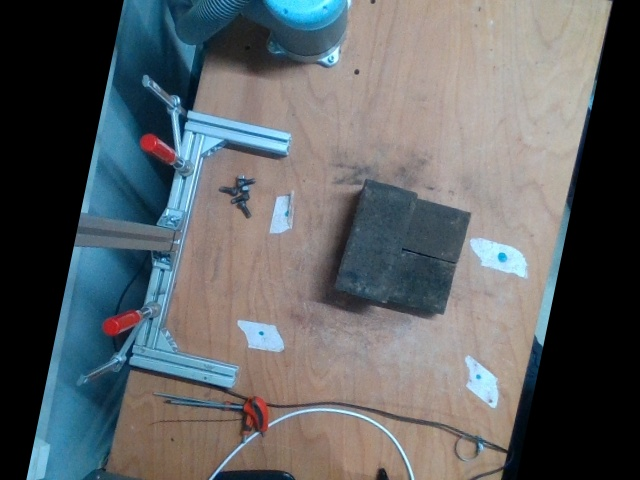brick: (336, 180, 415, 299)
